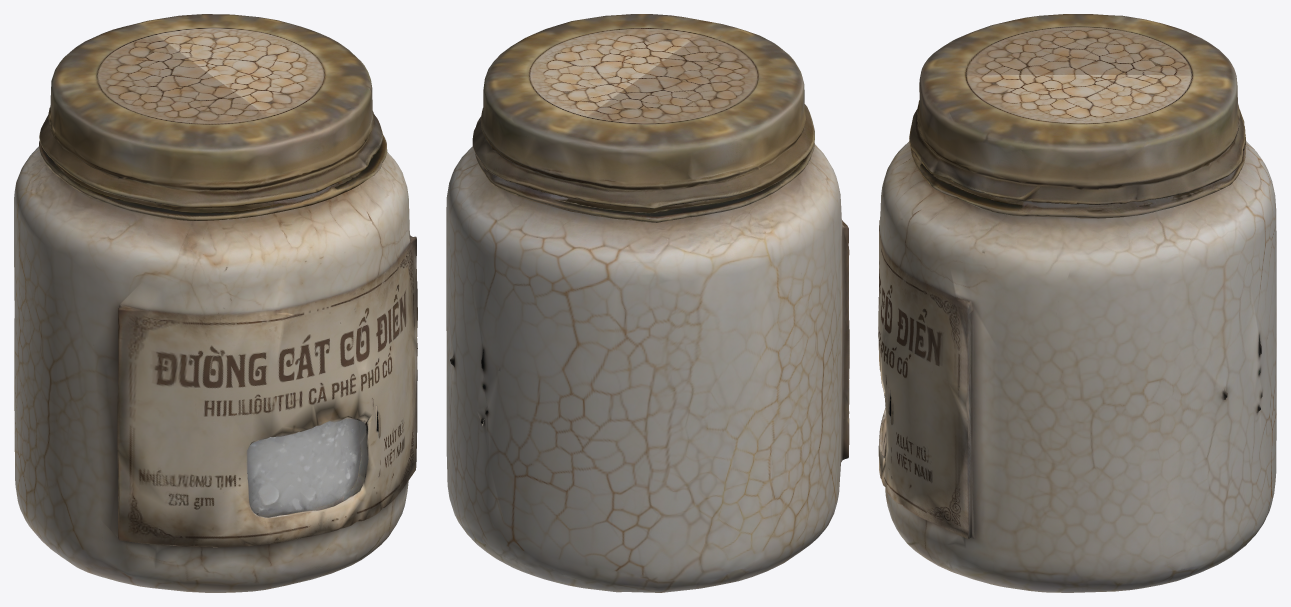
Rendered from Meshy_AI_Cracked_Vintage_Jar_w_0603195416_texture.fbx.
The picture shows the model from 3 angles, left to right: view 1: azimuth 30°, elevation 25°; view 2: azimuth 150°, elevation 25°; view 3: azimuth 270°, elevation 25°; orthographic projection.
Visible parts, largest first — view 1: Mesh_0; view 2: Mesh_0; view 3: Mesh_0.
Part boxes in pixels (left/top/right/bottom): Mesh_0: left=14, top=14, right=417, bottom=592; Mesh_0: left=446, top=14, right=849, bottom=592; Mesh_0: left=878, top=14, right=1276, bottom=592.
Bounding box in the file's own units: 158 × 200 × 159.
1 material, 1 textured.
